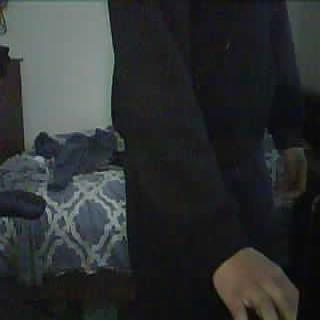Navy Sweatpants: (123, 150, 283, 320)
